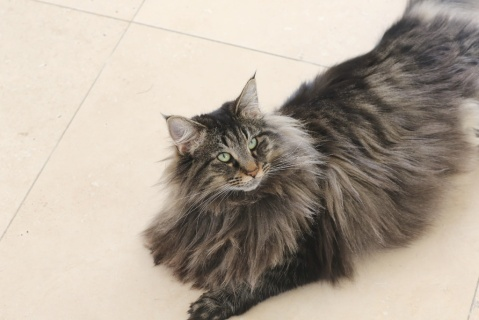Cat: (142, 0, 479, 319)
